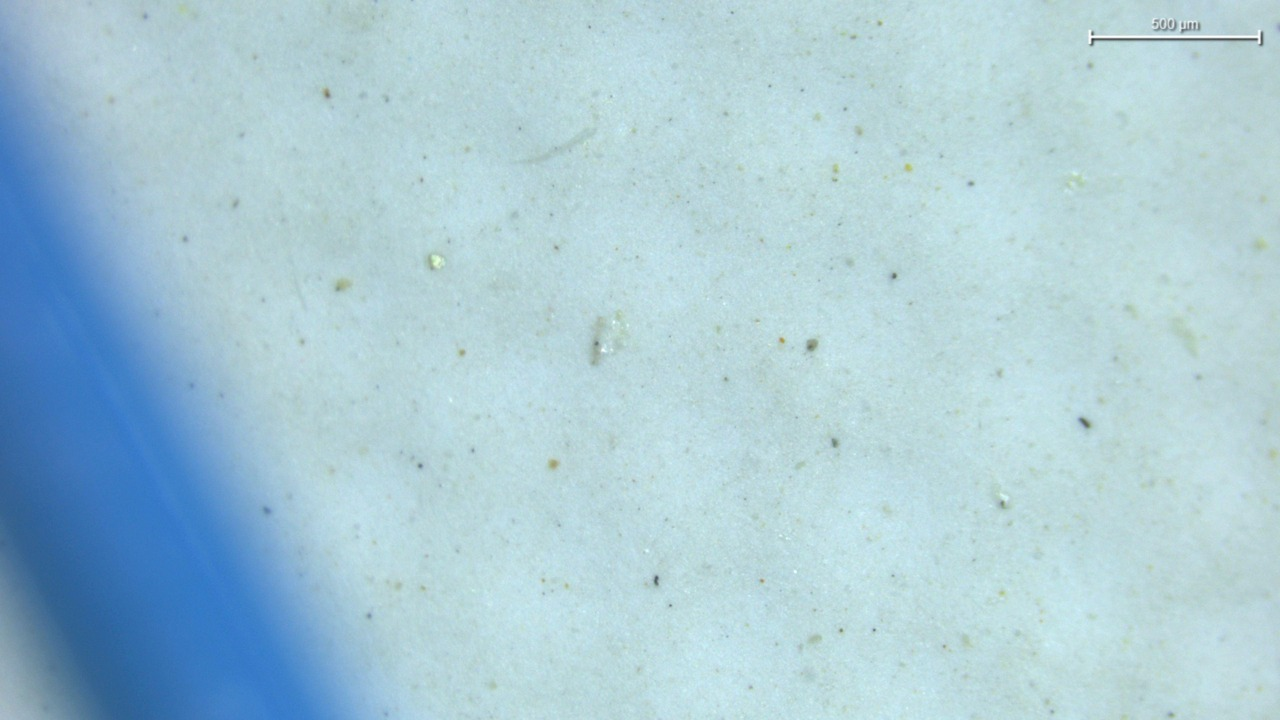microplastic_fragment: (589, 311, 628, 365), (428, 254, 445, 269)
